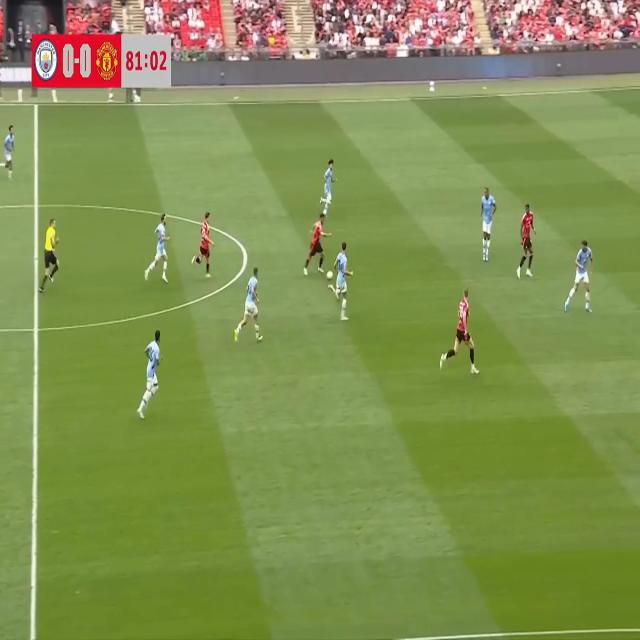ball: (324, 263, 338, 288)
players: (434, 270, 483, 382), (562, 230, 601, 323), (133, 314, 164, 426), (141, 202, 174, 294), (232, 263, 265, 353), (300, 214, 335, 285), (477, 177, 500, 272), (327, 243, 354, 323), (189, 202, 216, 280), (515, 196, 537, 286), (316, 152, 340, 222), (0, 121, 18, 192)
refree: (34, 212, 66, 306)
